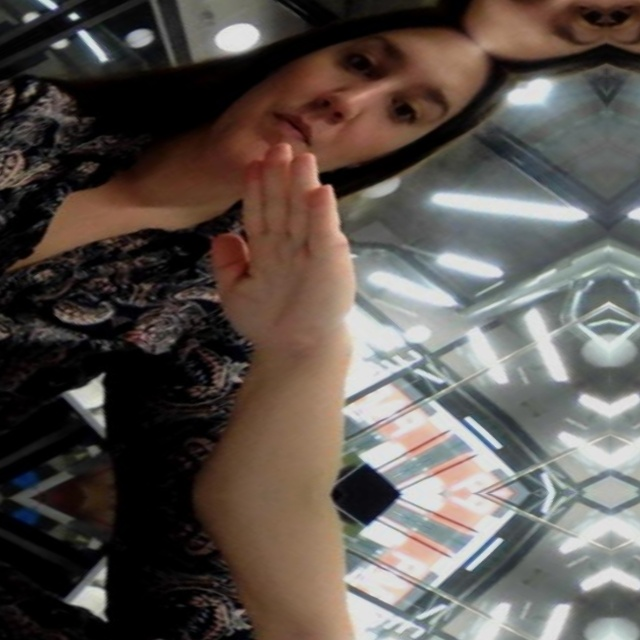Paper: (109, 129, 456, 365)
